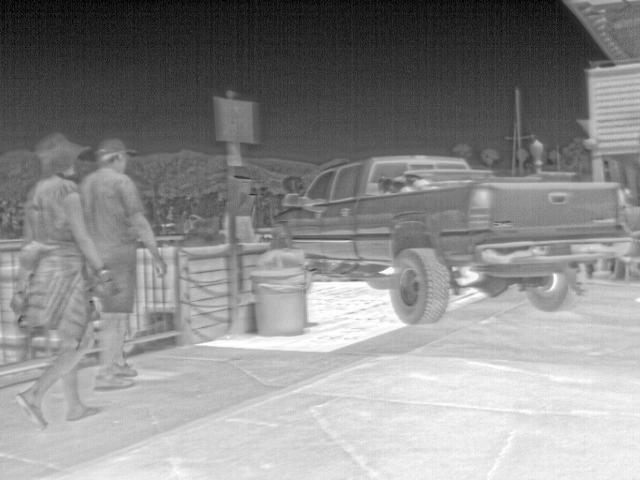car: (274, 152, 631, 325)
person: (12, 130, 108, 426), (77, 138, 171, 394)
